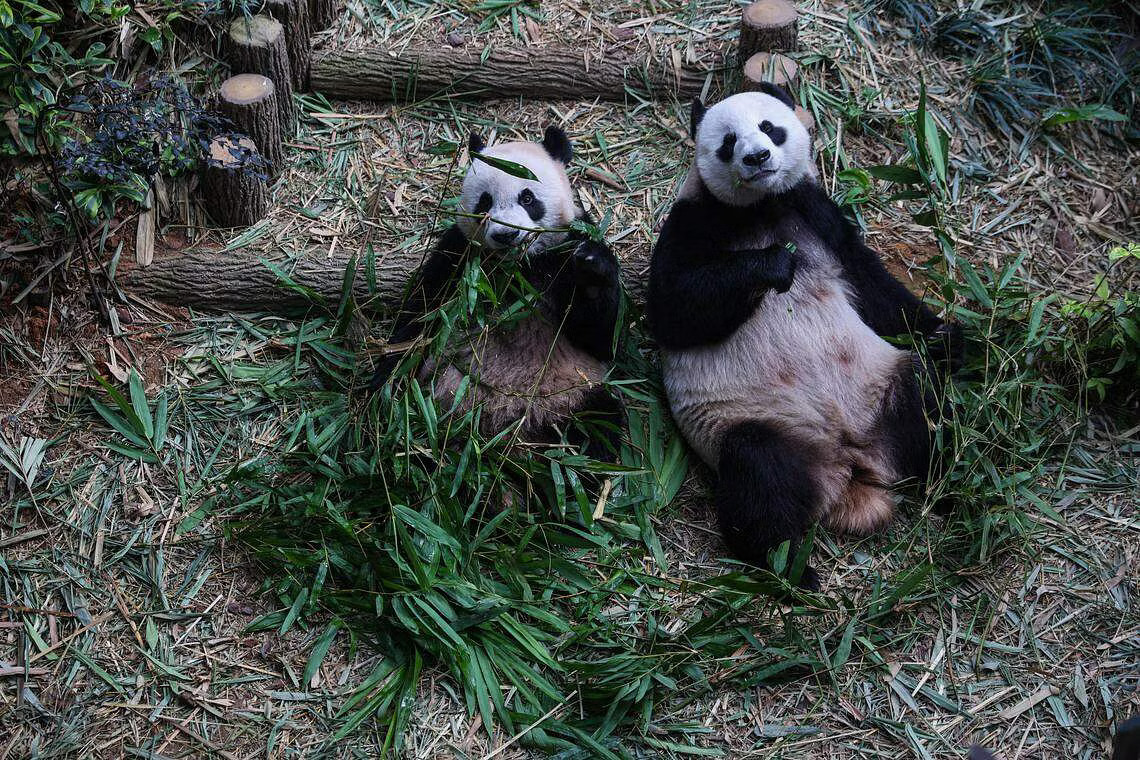Giant panda: (455, 126, 576, 262), (687, 78, 815, 205)
